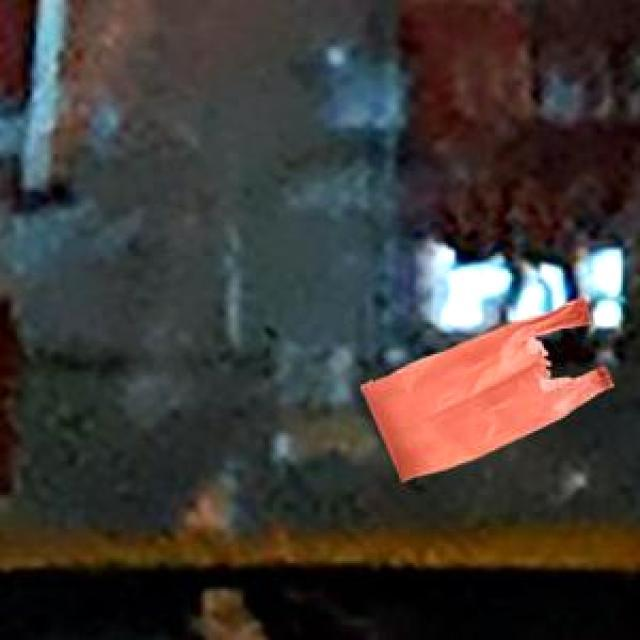Plastic_Bag: (357, 293, 609, 479)
